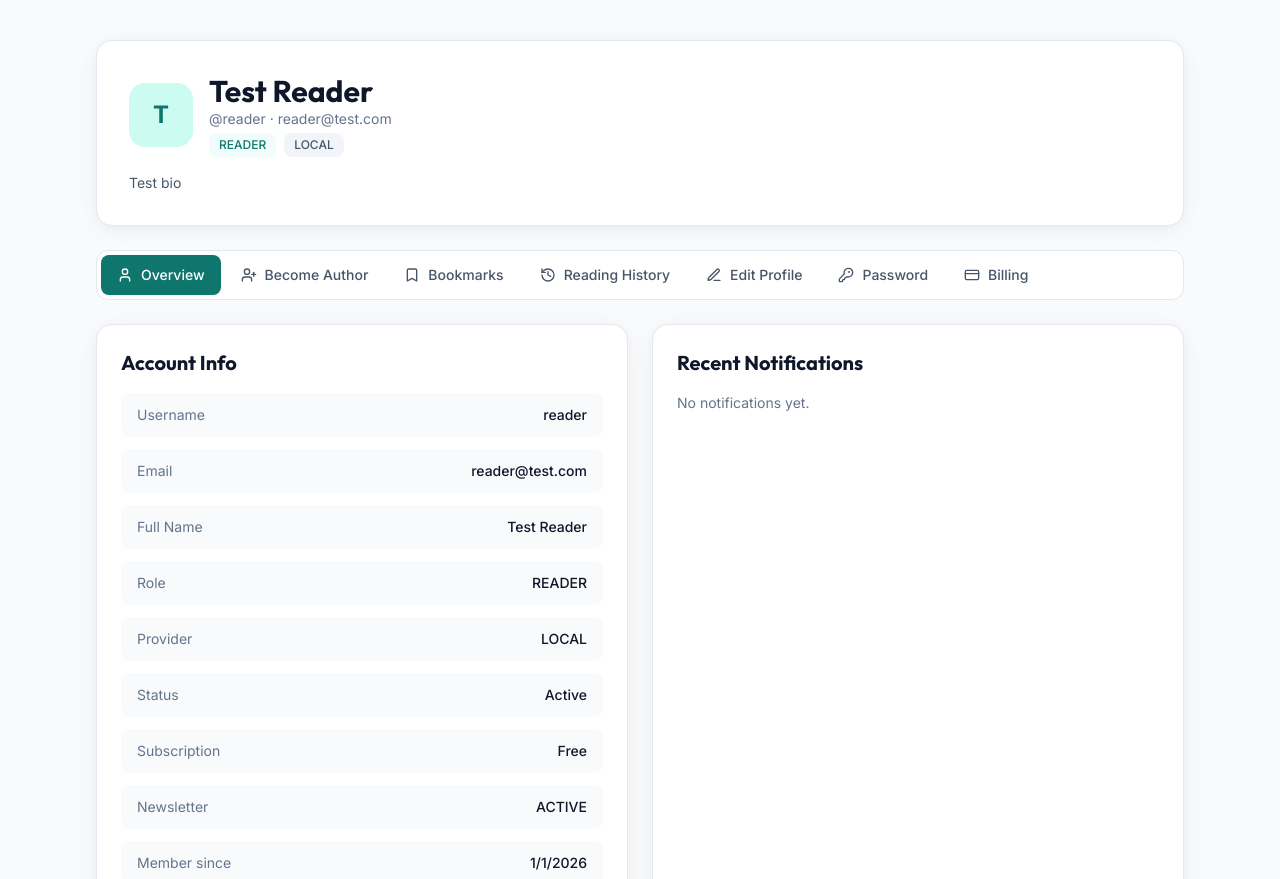
Test: ProfilePage › validates username
Click the button "Edit Profile" at (754, 275), box [690,255,818,295]
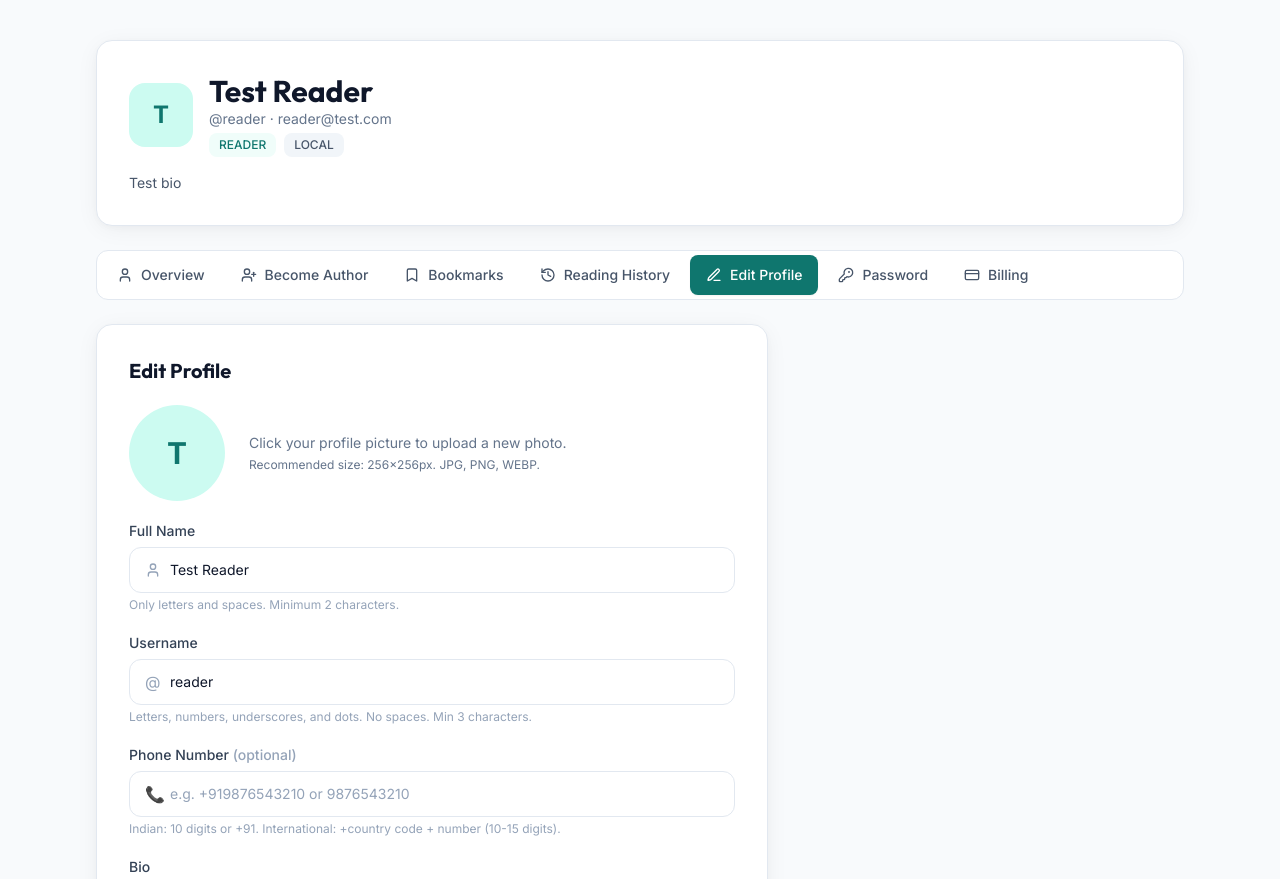
Expected: the field with placeholder "Username" below "Username" is shown
Replace the text in the field with placeholder "Username" below "Username" with "ab" at (432, 682), box [129,659,735,705]
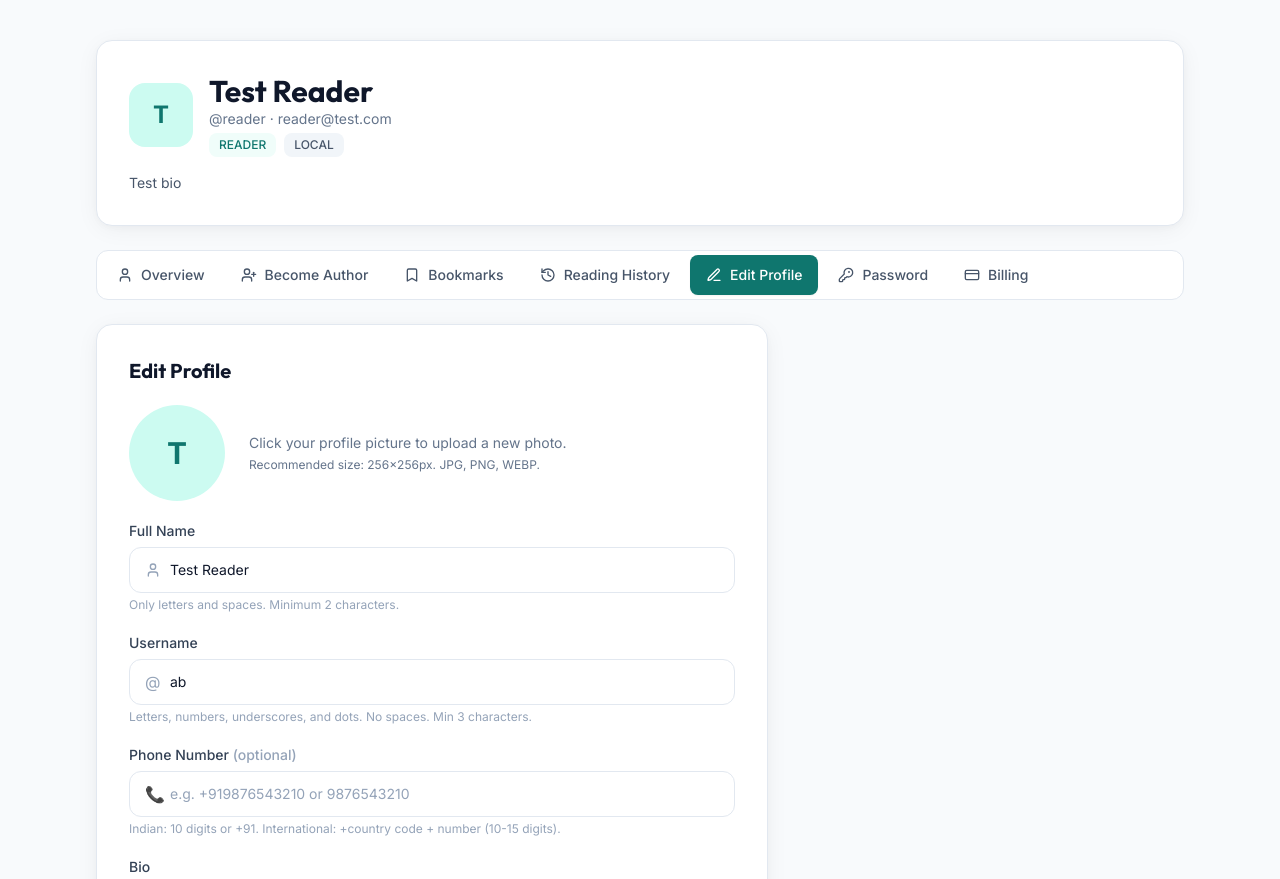
Leave the field with placeholder "Username" below "Username", box [129,659,735,705]
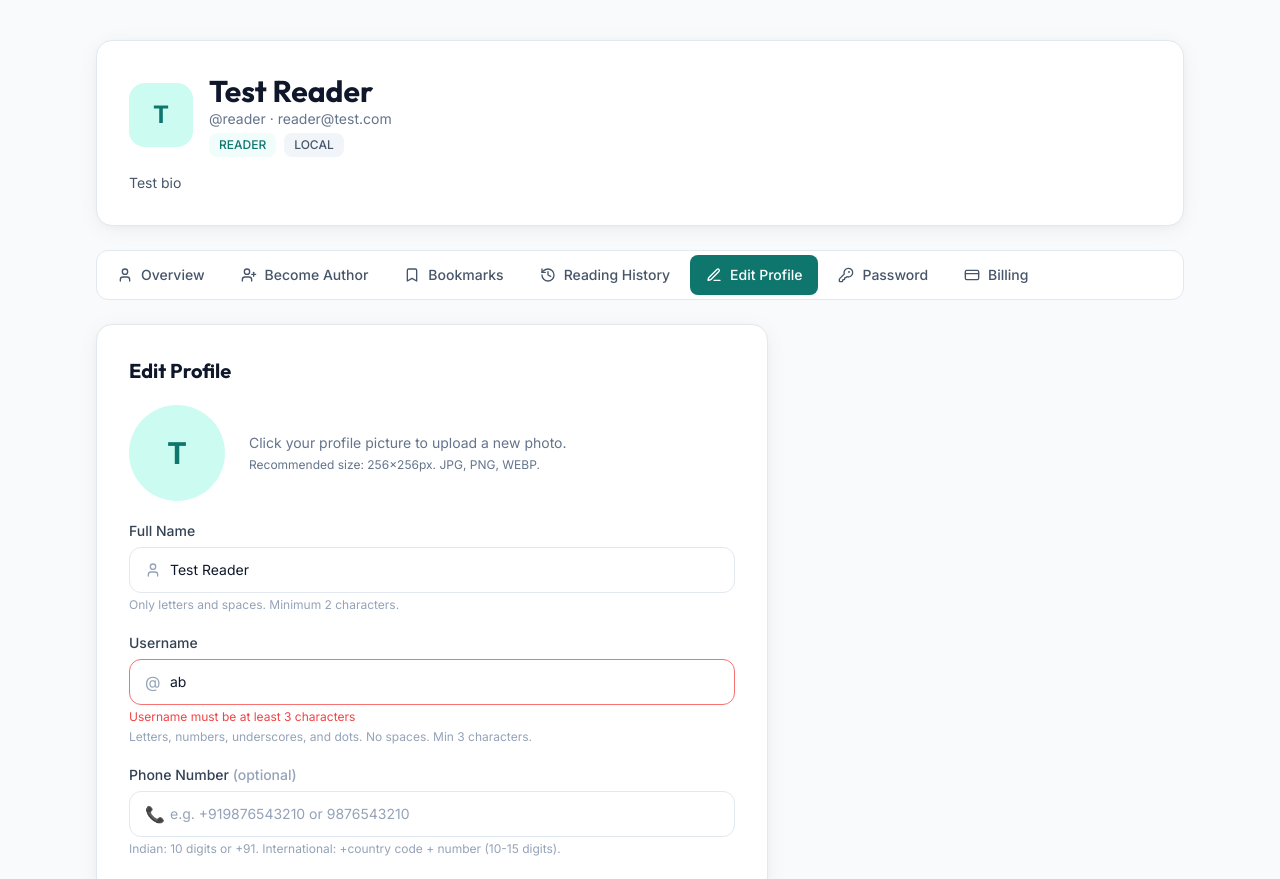
Expected: the text "Username must be at least 3 characters" is shown, [129,709,355,724]
